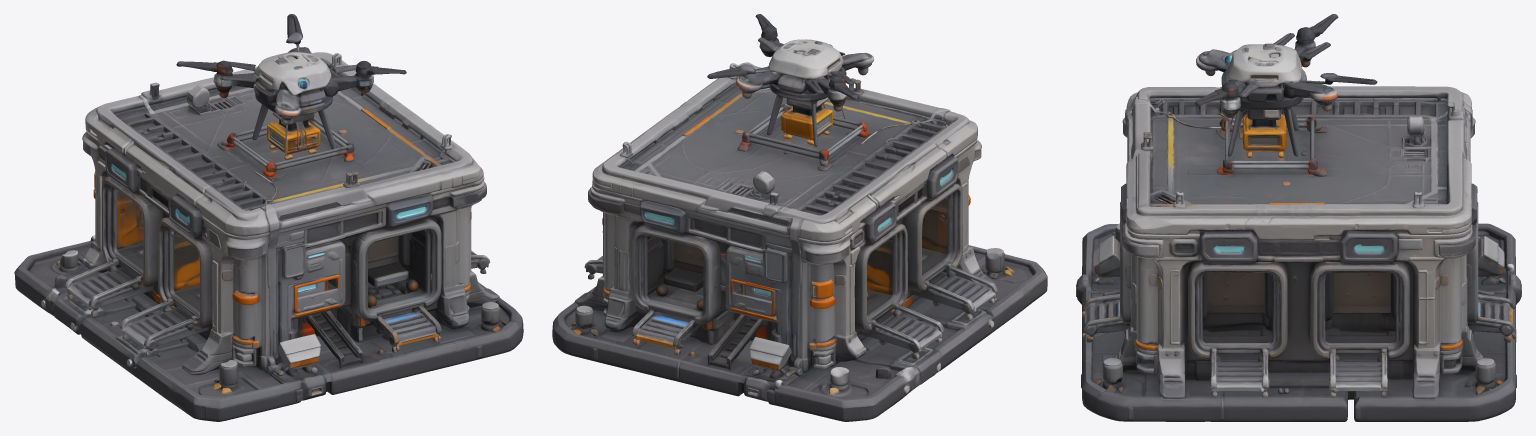
File: loader.glb
The picture shows the model from 3 angles, left to right: view 1: azimuth 30°, elevation 25°; view 2: azimuth 150°, elevation 25°; view 3: azimuth 270°, elevation 25°; orthographic projection. The views are drawn at different scales.
Parts seen in each view (by area): view 1: FC_housing, FC_dockcraft; view 2: FC_housing, FC_dockcraft; view 3: FC_housing, FC_dockcraft.
Boxes of the visible parts, left/top/right/bottom form: FC_housing: left=14, top=52, right=523, bottom=421; FC_dockcraft: left=150, top=14, right=451, bottom=182; FC_housing: left=552, top=62, right=1047, bottom=421; FC_dockcraft: left=622, top=14, right=873, bottom=202; FC_housing: left=1076, top=86, right=1521, bottom=421; FC_dockcraft: left=1143, top=14, right=1454, bottom=203.
Size of the model in its own units: 0.9688 by 0.6971 by 0.9829.
Materials: 1 (1 with a texture image).
